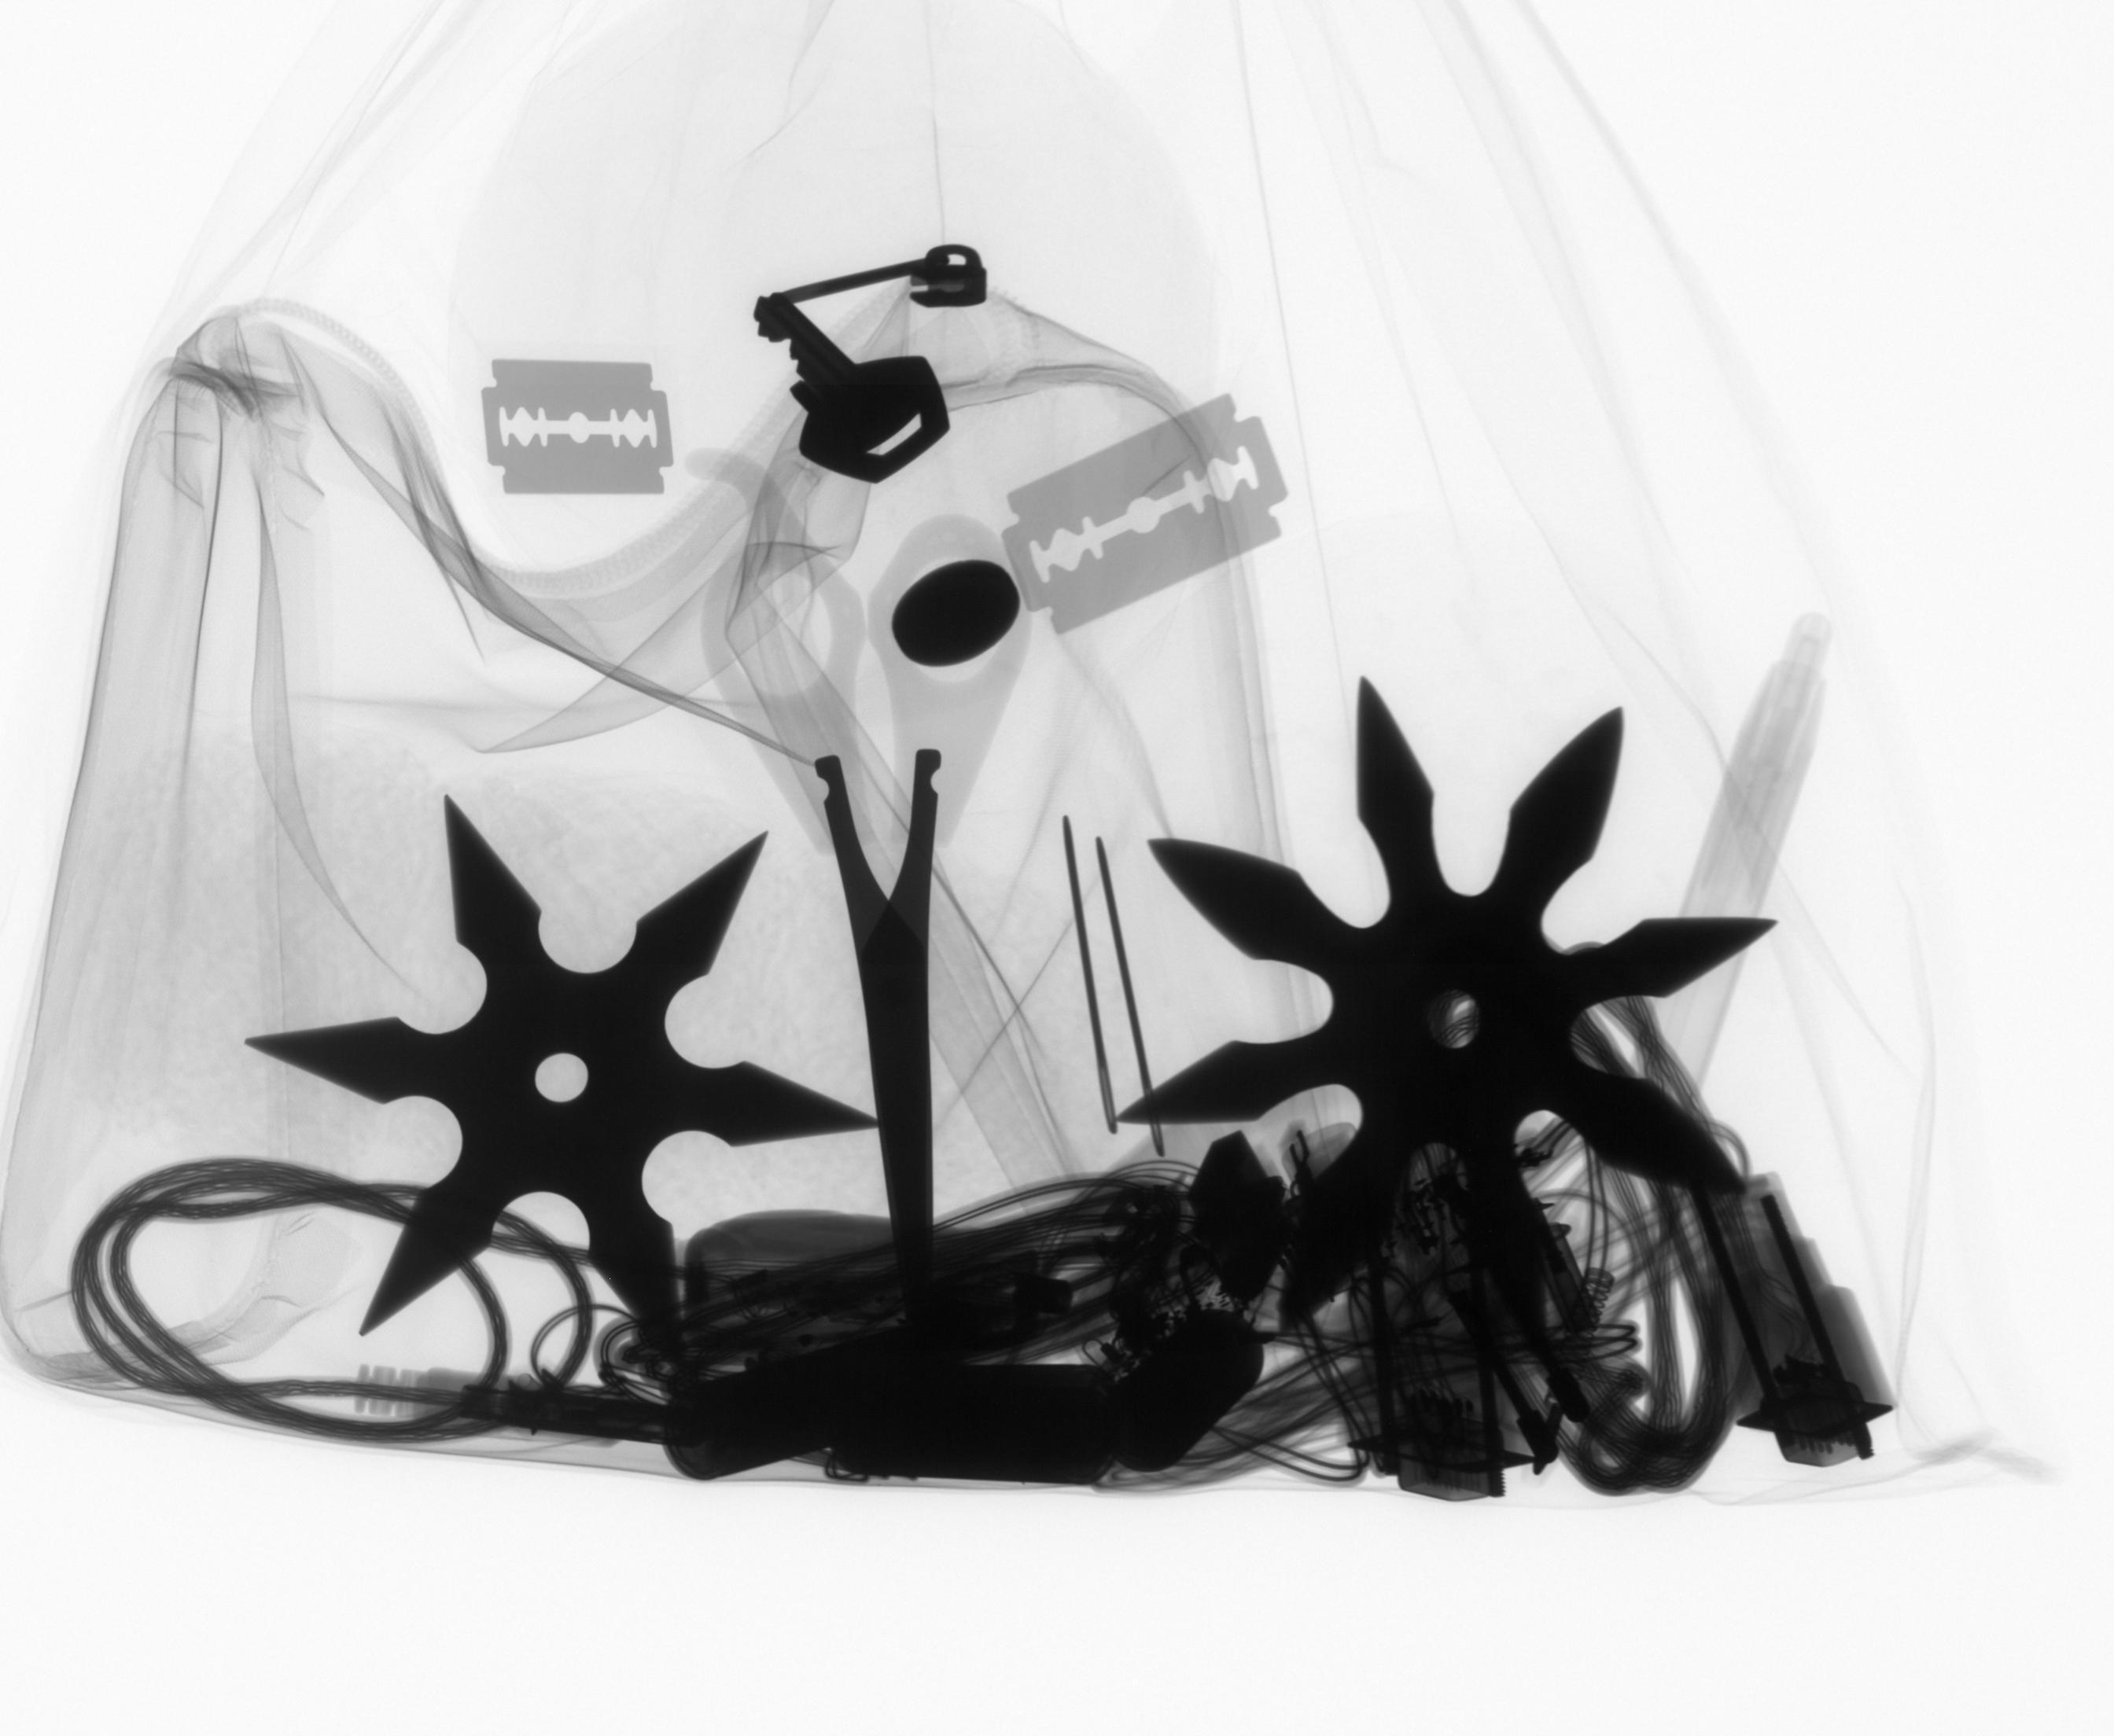RazorBlade: (994, 384, 1299, 642), (469, 351, 685, 507)
Shuriken: (1106, 664, 1796, 1371), (232, 783, 906, 1385)
